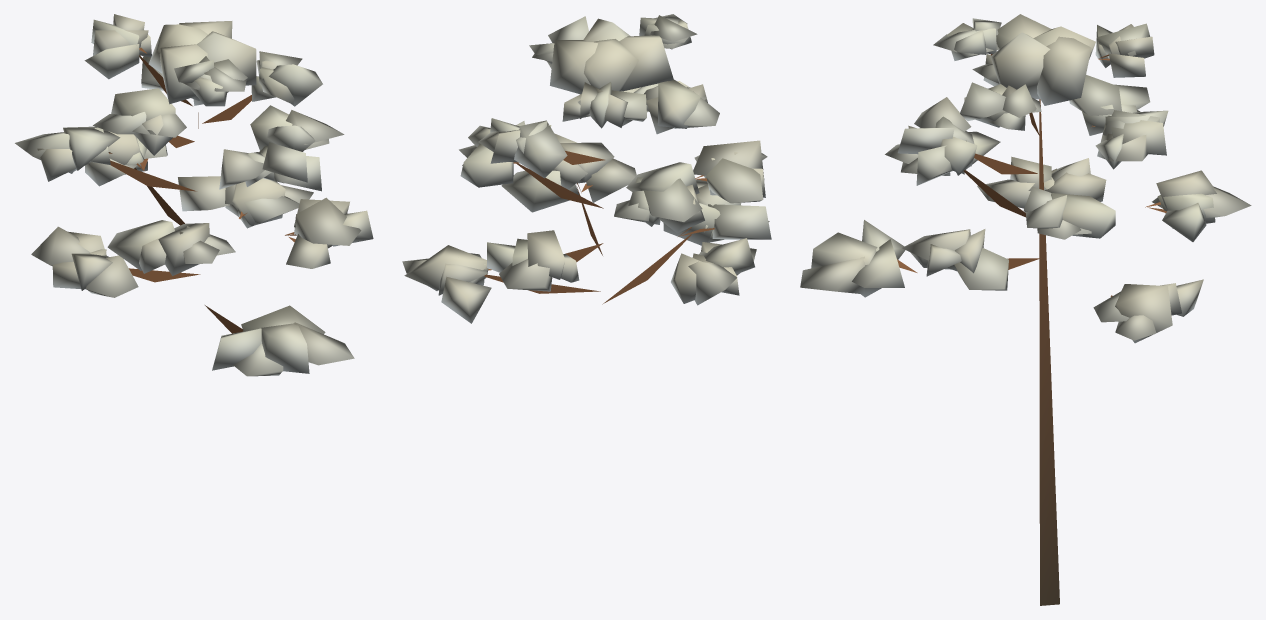
3 renders of one model, left to right at view 1: azimuth 30°, elevation 25°; view 2: azimuth 150°, elevation 25°; view 3: azimuth 270°, elevation 25°, orthographic. The views are drawn at different scales.
Parts seen in each view (by area): view 1: crown, trunk; view 2: crown, trunk; view 3: crown, trunk.
Part boxes in pixels (box(x1,y1,x2,y2)): crown: box(15, 14, 373, 376); trunk: box(108, 47, 296, 333); crown: box(402, 14, 771, 323); trunk: box(484, 151, 714, 304); crown: box(800, 14, 1251, 343); trunk: box(897, 54, 1166, 605).
Bounding box in the file's own units: 9.58 × 17.42 × 12.54.
